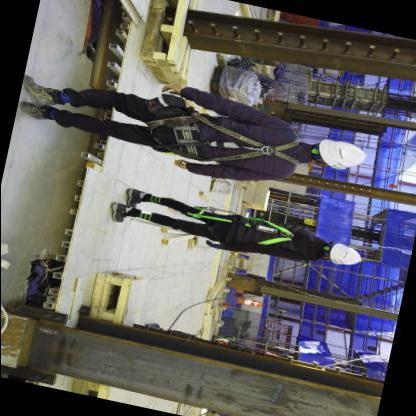Helmet: (309, 128, 365, 181), (322, 240, 361, 273)
safety-shoe: (19, 71, 59, 107), (15, 101, 54, 124), (123, 185, 153, 210), (106, 197, 131, 226)
